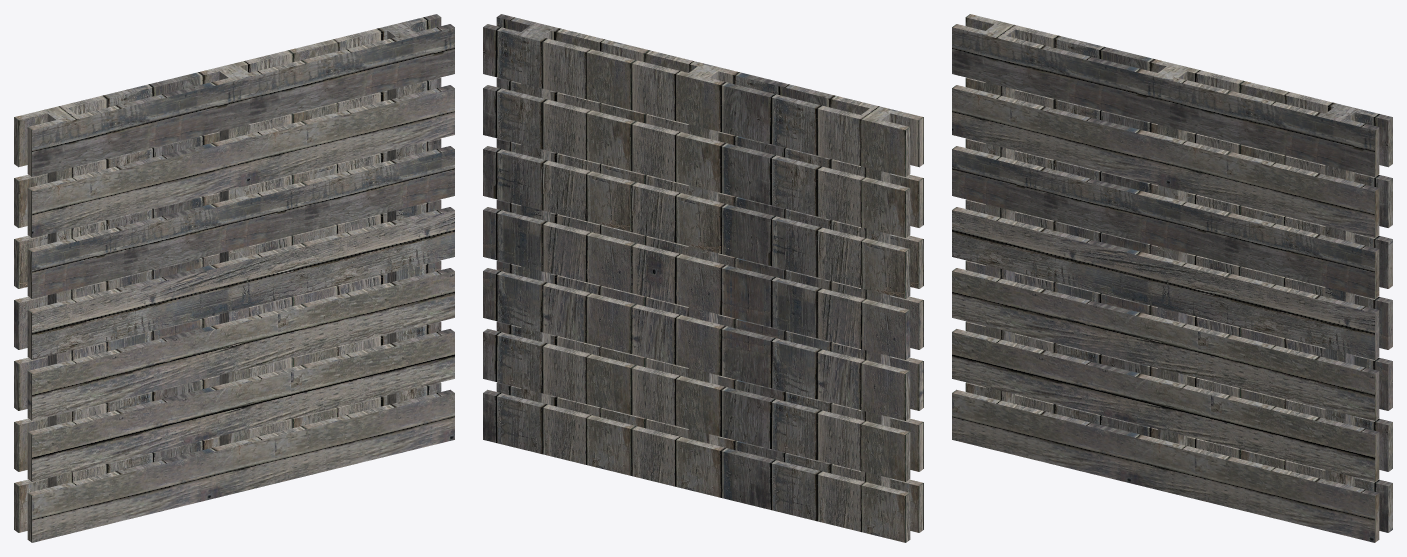
The model's file is palate.fbx.
The picture shows the model from 3 angles, left to right: view 1: azimuth 30°, elevation 25°; view 2: azimuth 150°, elevation 25°; view 3: azimuth 330°, elevation 25°; orthographic projection.
Visible parts, largest first — view 1: Model; view 2: Model; view 3: Model.
Part boxes in pixels (x1=…): Model: x1=14, y1=14, x2=454, y2=542; Model: x1=483, y1=14, x2=923, y2=542; Model: x1=952, y1=14, x2=1392, y2=542.
Size of the model in its own units: 1.69 by 1.58 by 0.1255.
